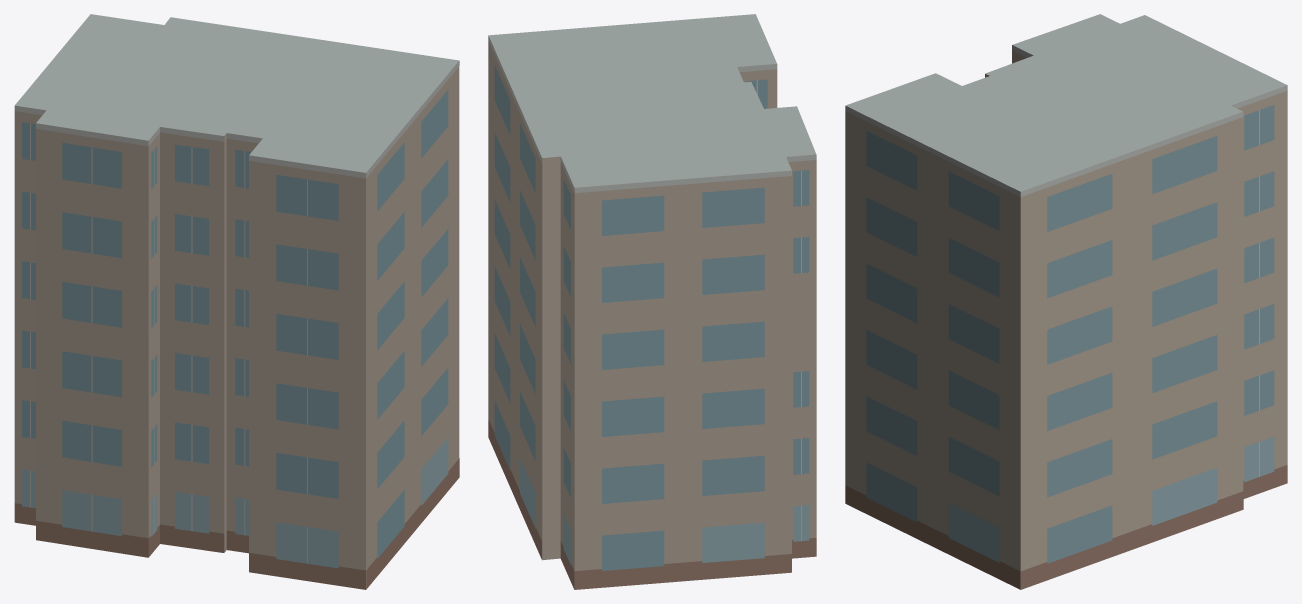
Rendered from survey-upis-32698172.glb.
3 views of the same model, side by side, from view 1: azimuth 30°, elevation 25°; view 2: azimuth 150°, elevation 25°; view 3: azimuth 270°, elevation 25° (orthographic). The views are drawn at different scales.
Visible parts, largest first — view 1: survey-upis-32698172.tmp; view 2: survey-upis-32698172.tmp; view 3: survey-upis-32698172.tmp.
Boxes of the visible parts, box(x1,y1,x2,y2) form: survey-upis-32698172.tmp: box(14, 14, 459, 589); survey-upis-32698172.tmp: box(488, 14, 816, 589); survey-upis-32698172.tmp: box(845, 14, 1287, 589).
Size of the model in its own units: 17.55 by 18.3 by 18.44.
